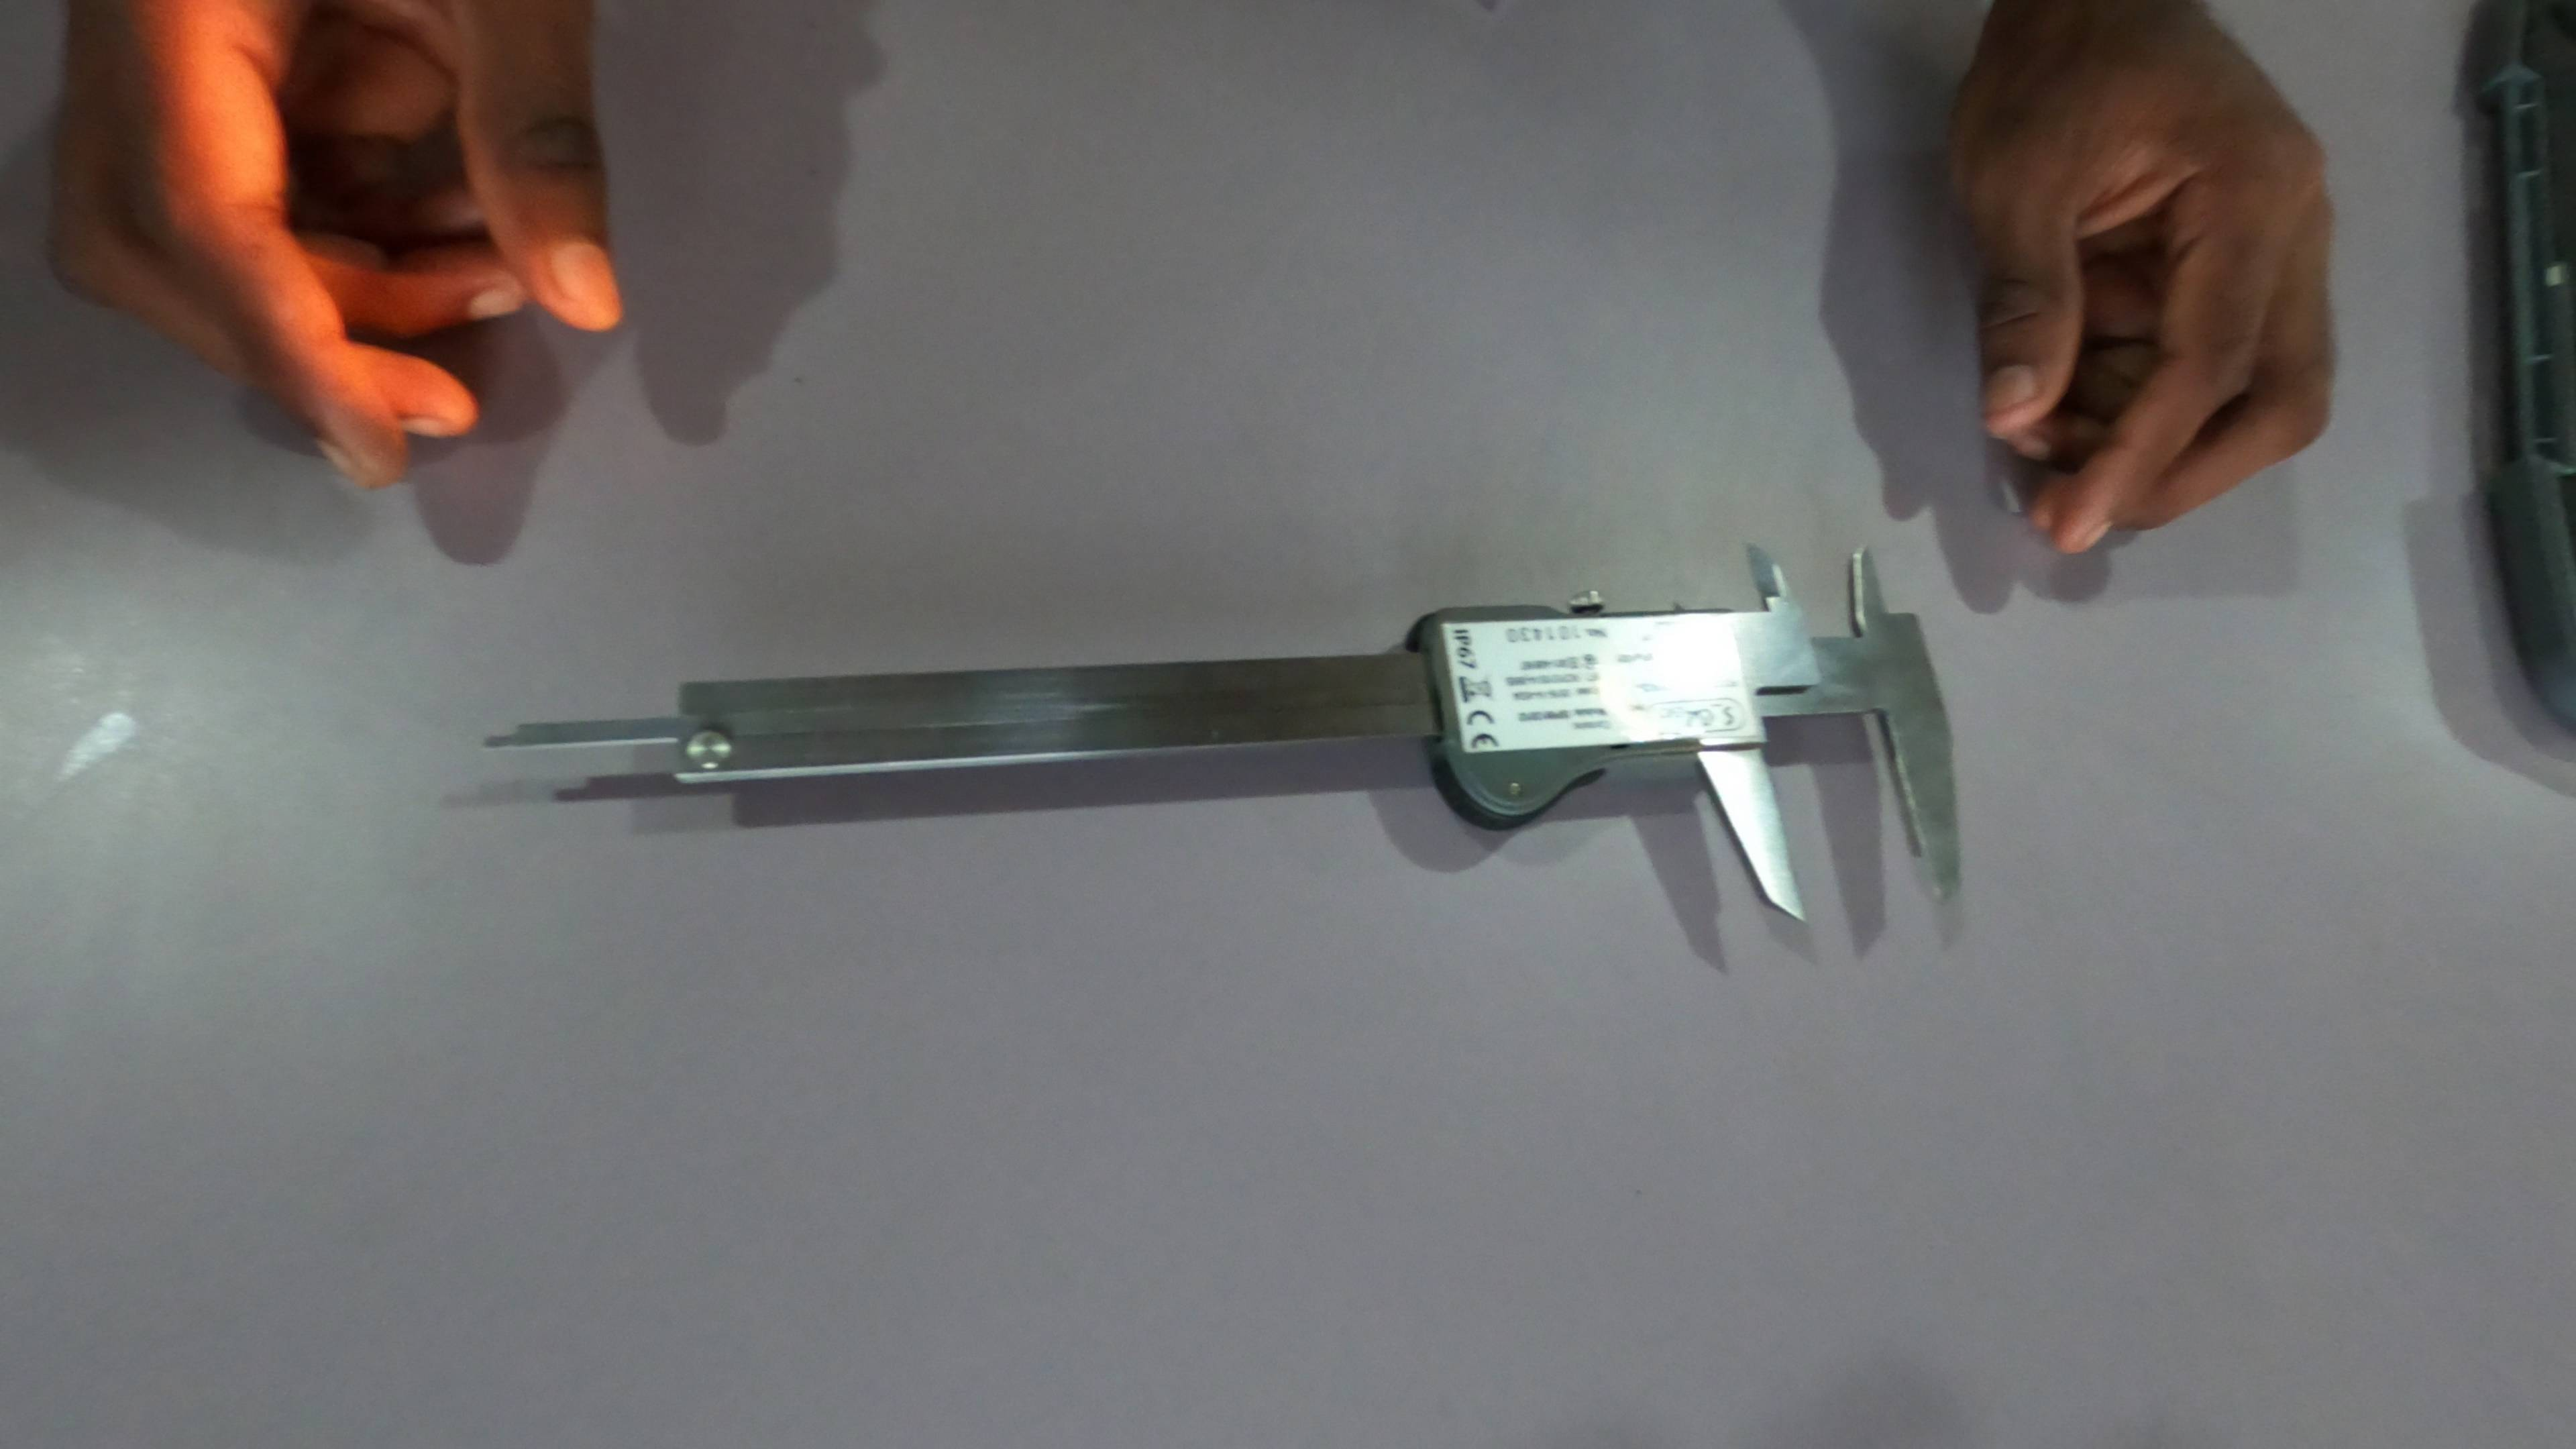vernier_caliper: (479, 541, 1967, 918)
